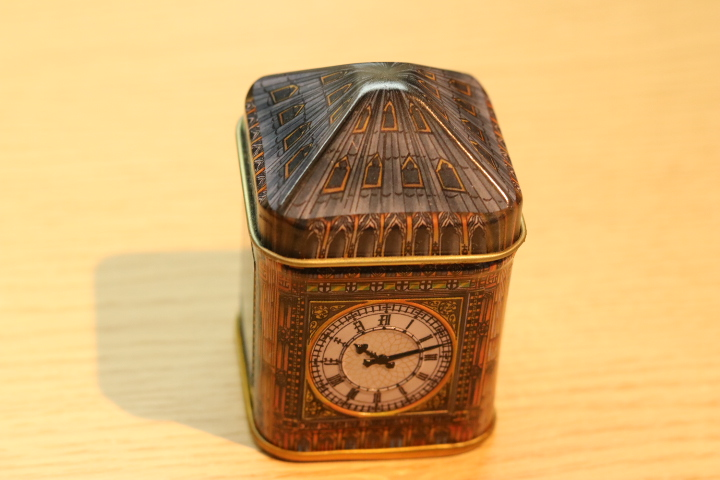Big Ben: (196, 32, 542, 473)
